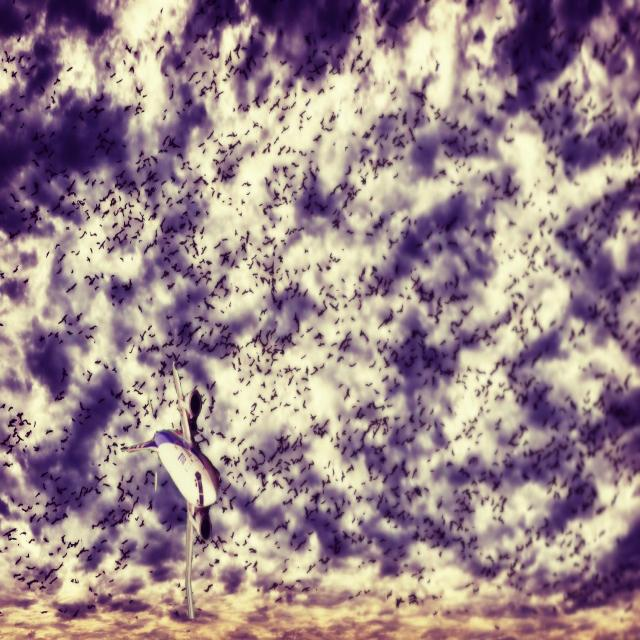airplane: (121, 360, 220, 620)
